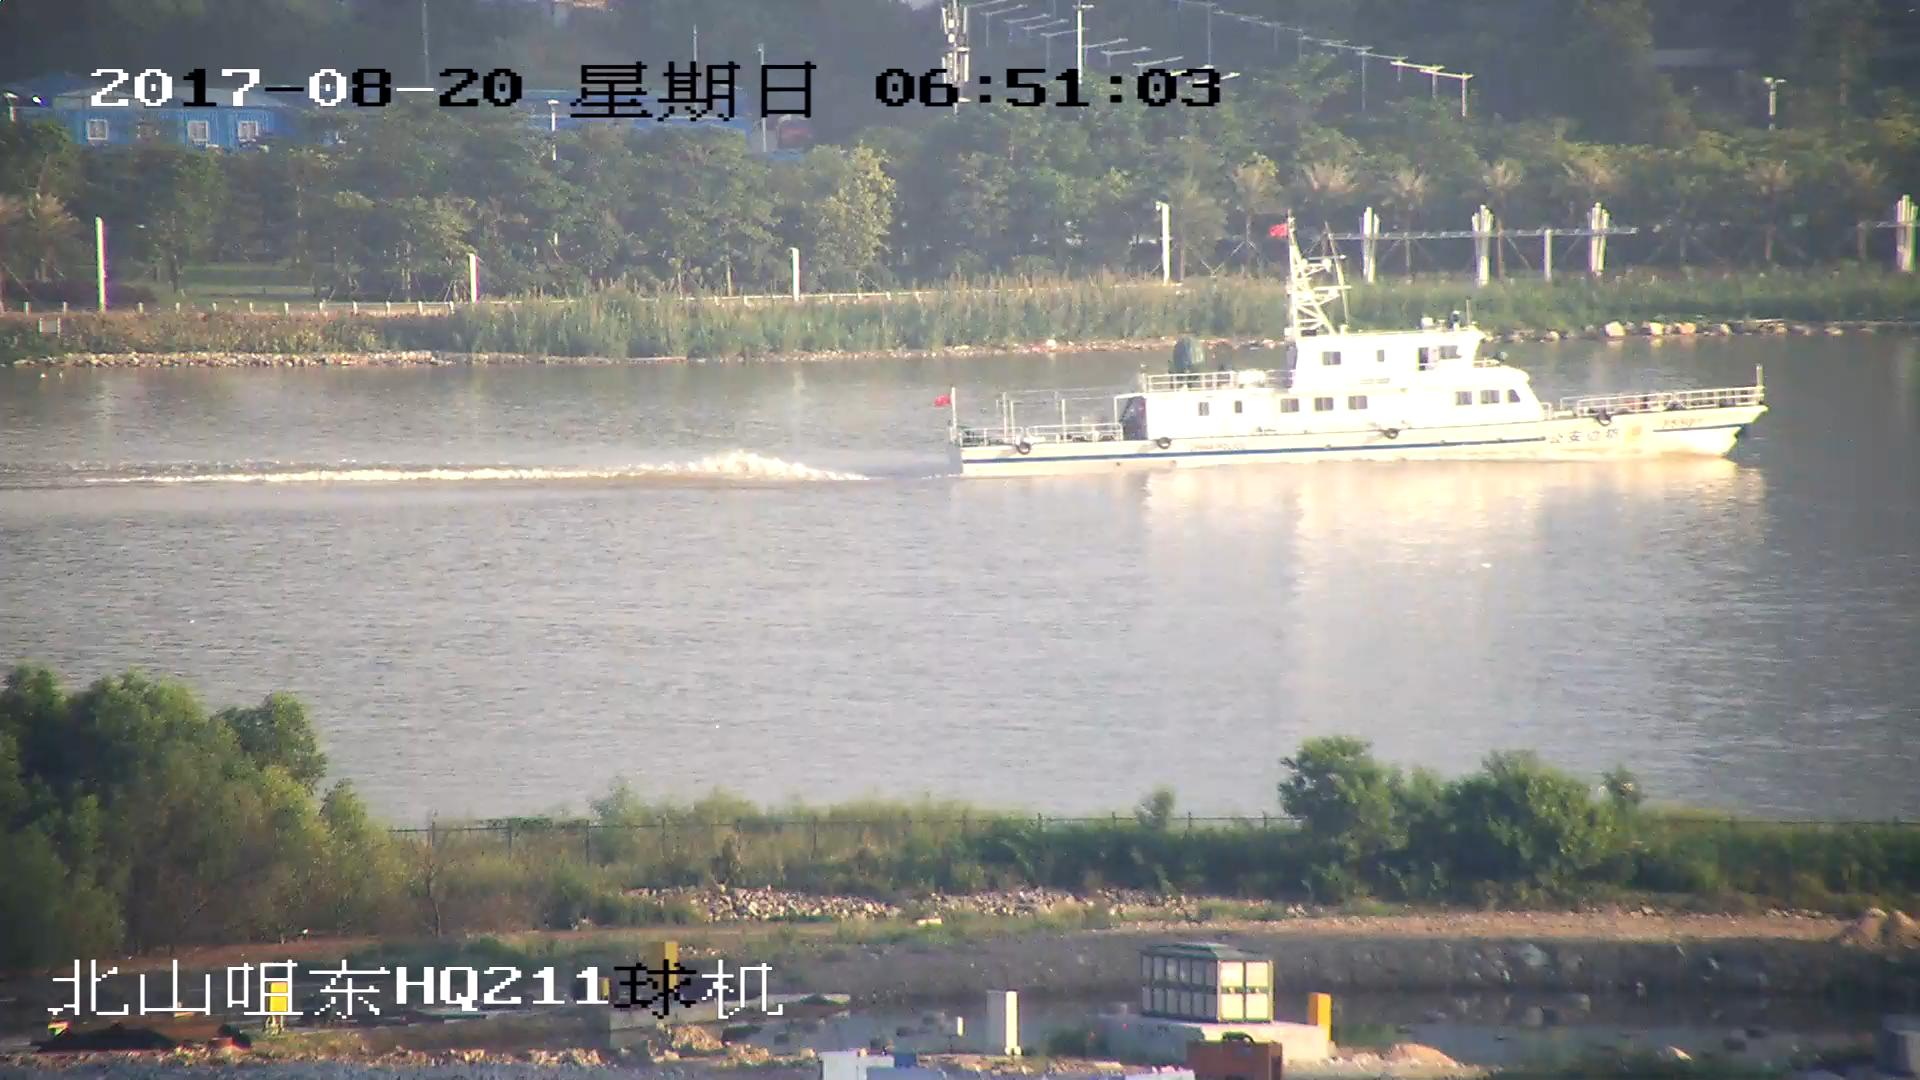passenger ship: (944, 210, 1764, 474)
